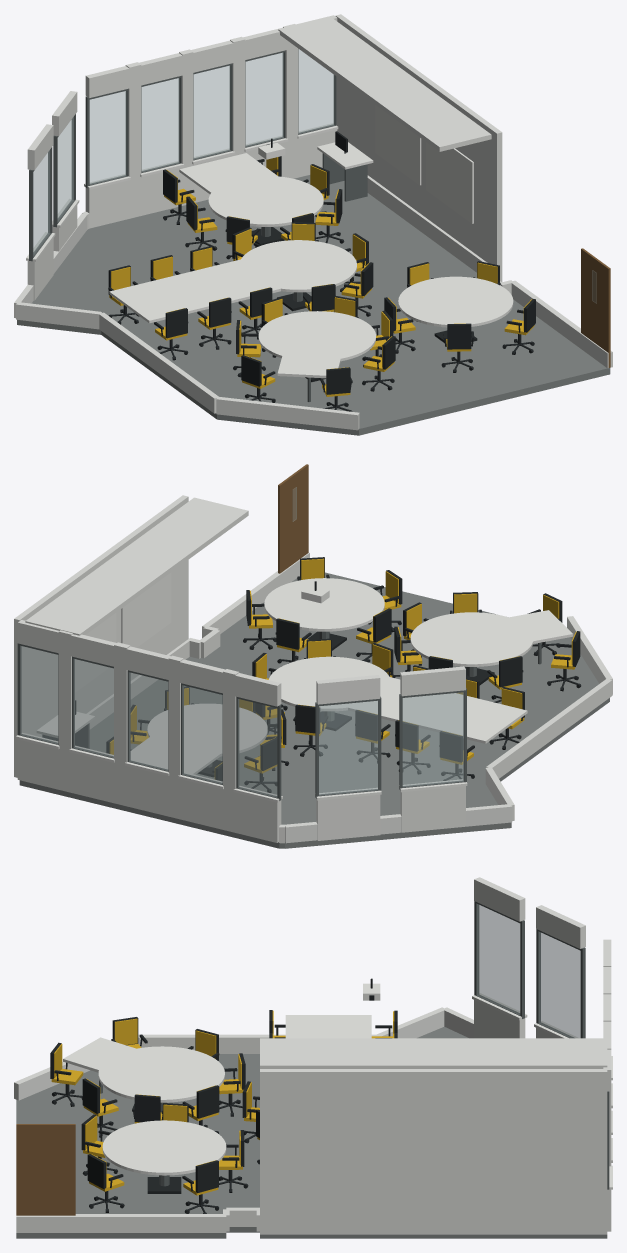
The model's file is faw-401-interior-9717ffdc3aa0.glb.
3 renders of one model, top to bottom at view 1: azimuth 30°, elevation 25°; view 2: azimuth 150°, elevation 25°; view 3: azimuth 270°, elevation 25°, orthographic. The views are drawn at different scales.
Visible parts, largest first — view 1: faw-401; view 2: faw-401; view 3: faw-401.
Part boxes in pixels (x1,y1,x2,y2): faw-401: (14,14,612,435); faw-401: (14,464,612,848); faw-401: (14,877,612,1238).
Bounding box in the file's own units: 8.9 × 3.35 × 10.68.
